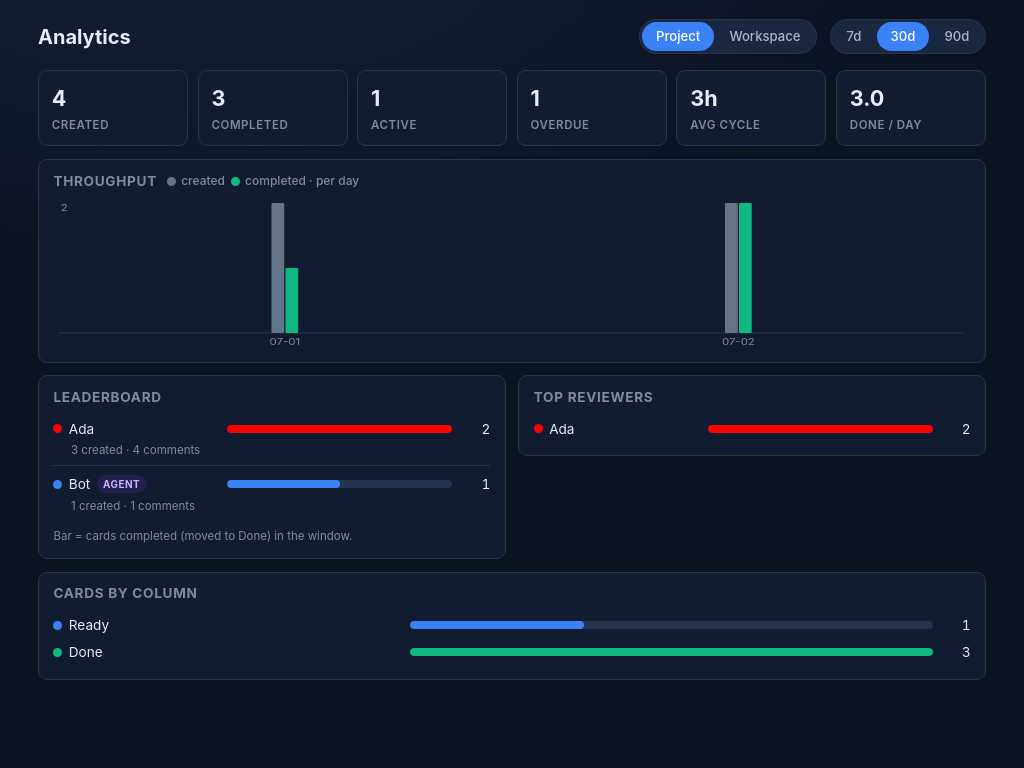
Analytics › switches to workspace scope and shows the project table
The width and height of the screenshot is (1024, 768).
Expected: the heading "Cards by column" is shown, [53, 586, 198, 602]
Click the tab "Workspace" at point(765, 36), box [716, 22, 814, 51]
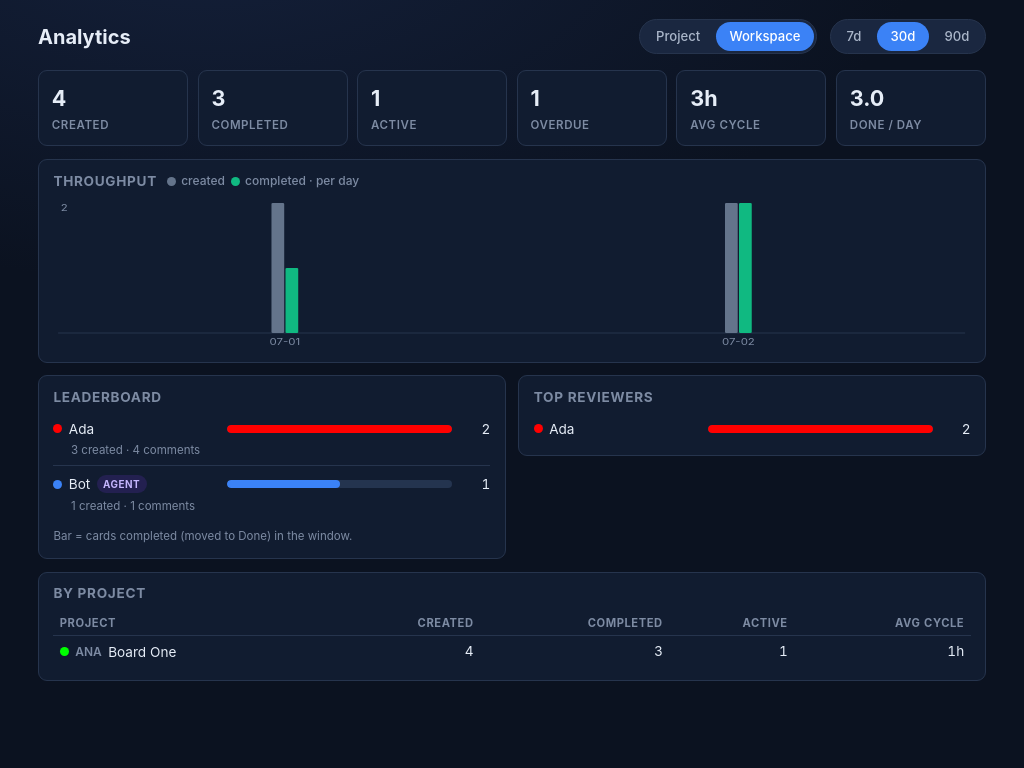
Expected: the heading "By project" is shown, [53, 586, 146, 602]
Expected: the text "Board One" is shown, [108, 644, 176, 660]
Expected: the text "ANA" is shown, [75, 643, 102, 661]
